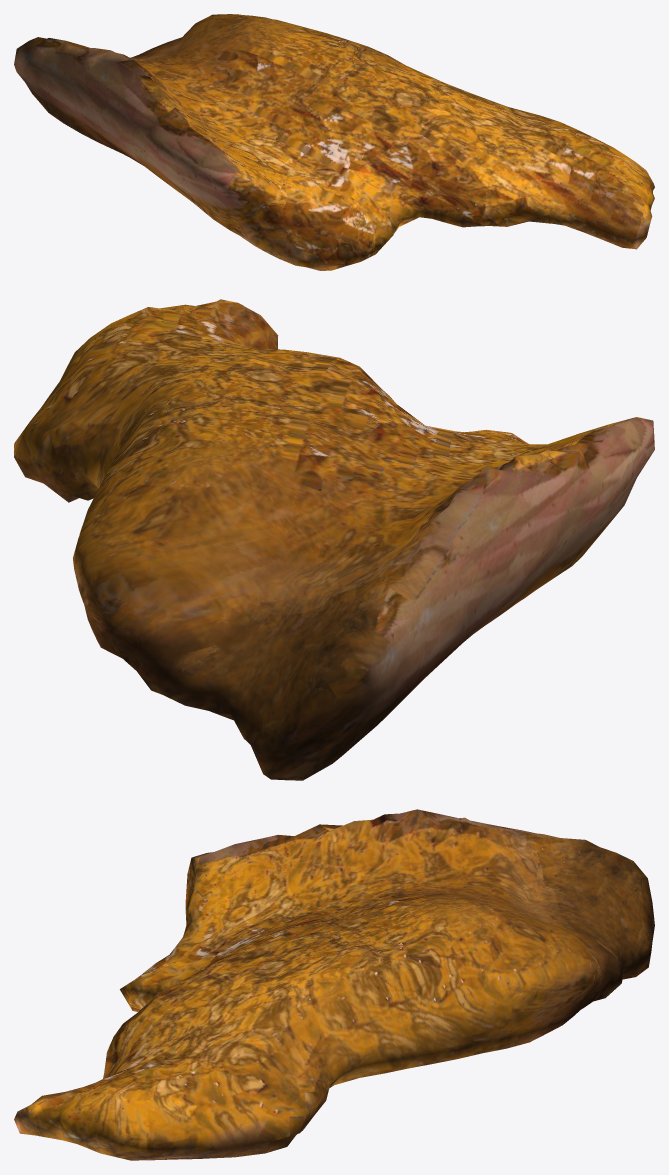
The model's file is chicken_chop_rp.glb.
3 views of the same model, one above another, from view 1: azimuth 30°, elevation 25°; view 2: azimuth 150°, elevation 25°; view 3: azimuth 270°, elevation 25° (orthographic). The views are drawn at different scales.
Visible parts, largest first — view 1: chicken_chop_rp; view 2: chicken_chop_rp; view 3: chicken_chop_rp.
Boxes of the visible parts, x1,y1,x2,y2 form: chicken_chop_rp: (14, 14, 654, 270); chicken_chop_rp: (14, 299, 654, 780); chicken_chop_rp: (14, 809, 654, 1160).
Size of the model in its own units: 0.7052 by 0.2372 by 0.8615.
1 material, 1 textured.
